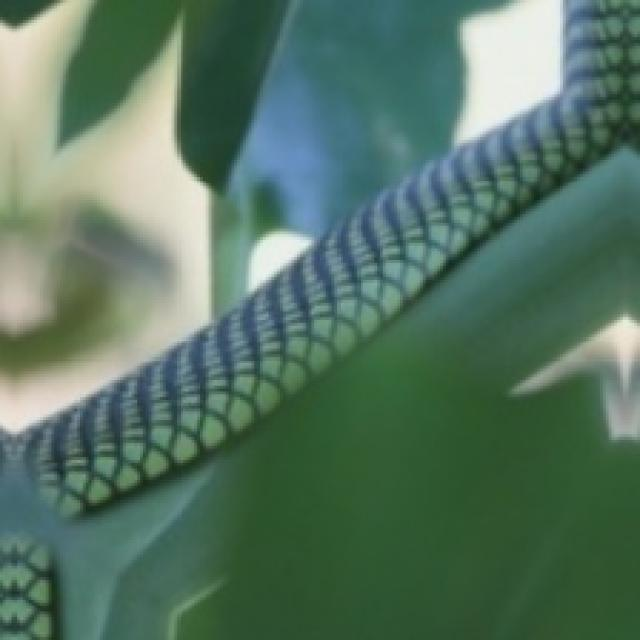paradise tree snake: (26, 0, 640, 516), (0, 534, 54, 639)
